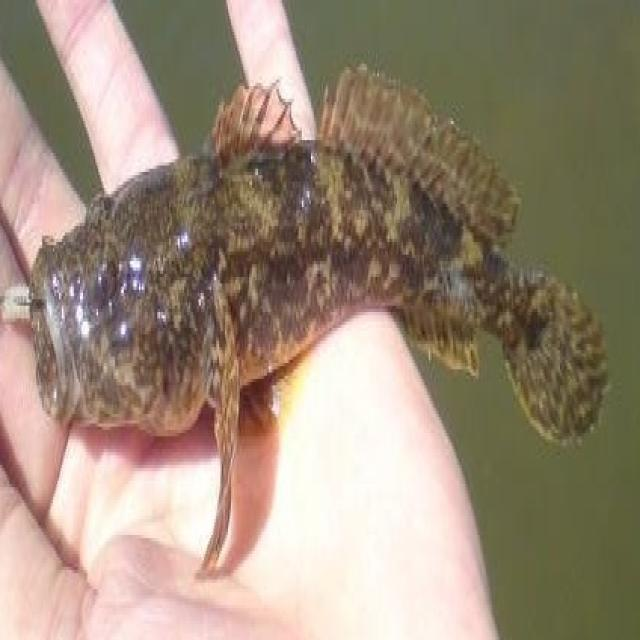Goby: (34, 34, 610, 602)
